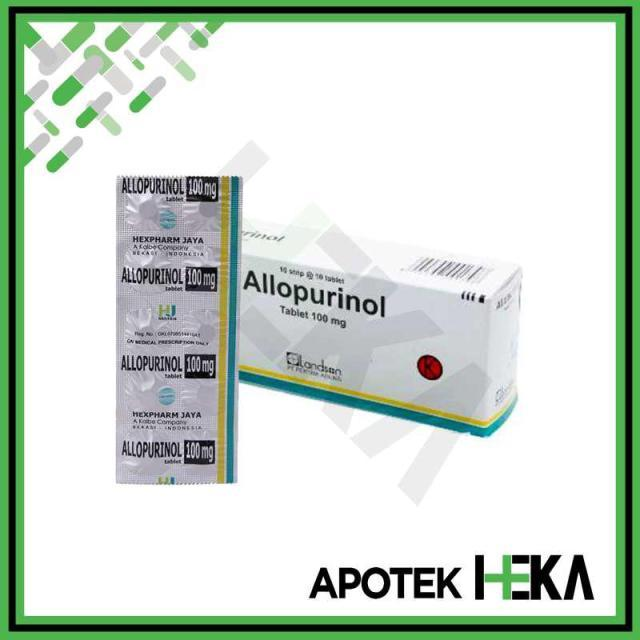drug-name: (242, 266, 388, 324)
